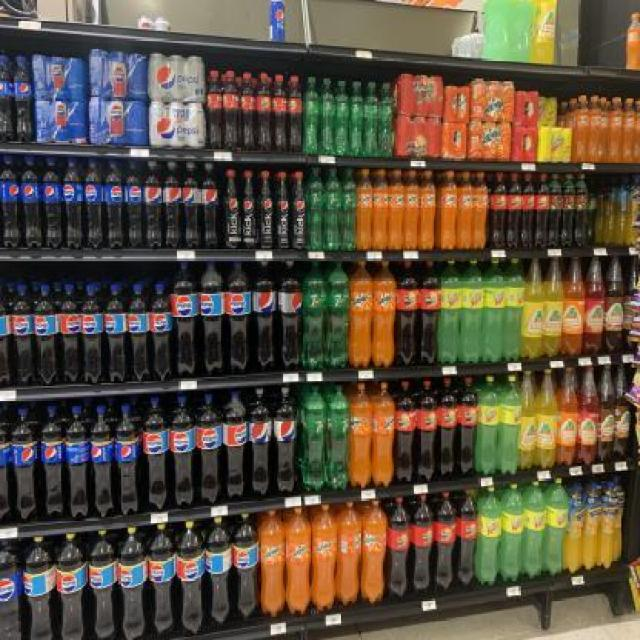Drinks: (147, 523, 178, 640), (56, 532, 90, 638), (88, 529, 120, 640), (116, 527, 147, 639), (177, 519, 206, 635), (11, 406, 40, 522), (23, 536, 55, 638), (204, 514, 233, 626), (198, 259, 225, 378), (169, 396, 197, 510), (171, 260, 198, 378), (225, 259, 252, 376), (232, 512, 260, 623), (142, 396, 169, 510), (88, 48, 148, 98), (197, 393, 223, 507), (252, 259, 278, 373), (88, 97, 148, 146), (273, 387, 299, 498), (248, 387, 274, 498), (222, 391, 248, 502), (40, 405, 65, 520), (90, 404, 115, 518), (148, 53, 206, 102), (148, 100, 207, 148), (33, 285, 61, 386), (115, 404, 140, 516), (325, 258, 350, 369), (302, 260, 327, 371), (65, 404, 89, 518), (325, 383, 350, 492), (302, 383, 327, 492), (278, 259, 302, 372), (32, 54, 88, 101), (0, 538, 26, 638), (34, 99, 89, 144), (11, 283, 35, 386), (80, 283, 103, 385), (150, 283, 173, 382), (127, 284, 150, 382), (104, 285, 127, 383), (60, 284, 82, 385), (42, 154, 64, 248), (63, 156, 85, 249), (21, 154, 42, 248), (1, 154, 21, 248), (84, 156, 104, 249), (124, 157, 144, 249), (104, 157, 124, 249), (13, 56, 33, 142), (163, 160, 182, 249), (145, 160, 163, 248), (306, 166, 325, 249), (182, 161, 200, 248), (201, 162, 219, 248), (324, 168, 342, 250), (0, 54, 17, 140), (302, 76, 320, 155), (341, 168, 357, 250), (319, 78, 335, 156), (378, 83, 394, 159), (349, 81, 365, 156), (335, 79, 350, 156), (364, 83, 379, 157), (269, 1, 285, 41)
